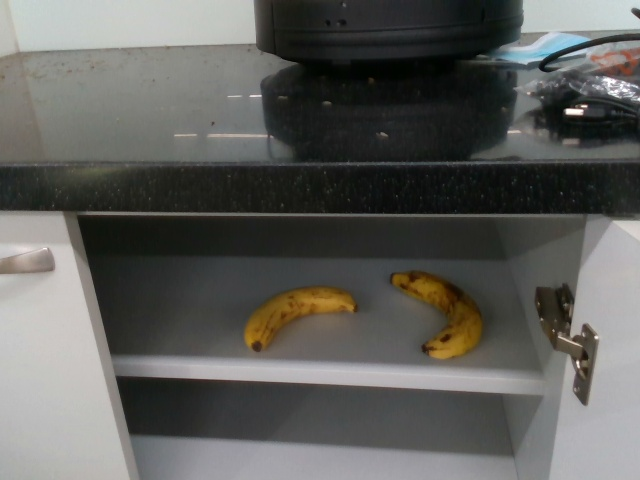banana: (388, 265, 486, 359), (243, 286, 358, 353)
